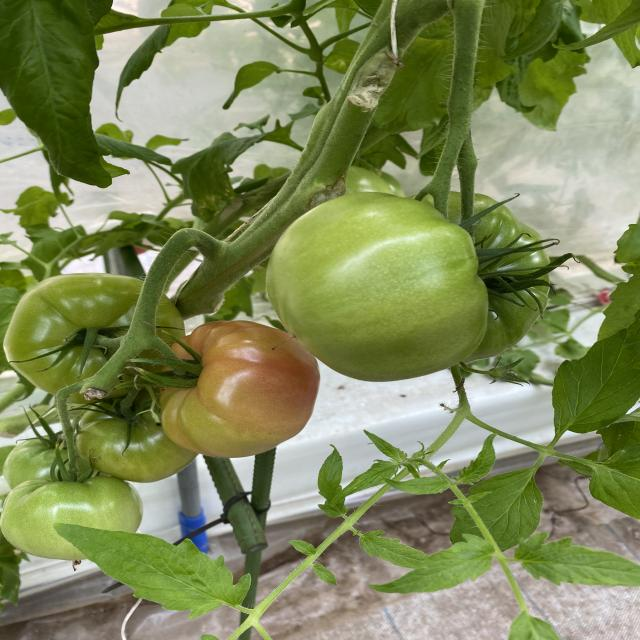yesil: (216, 184, 512, 384), (7, 272, 186, 548)
